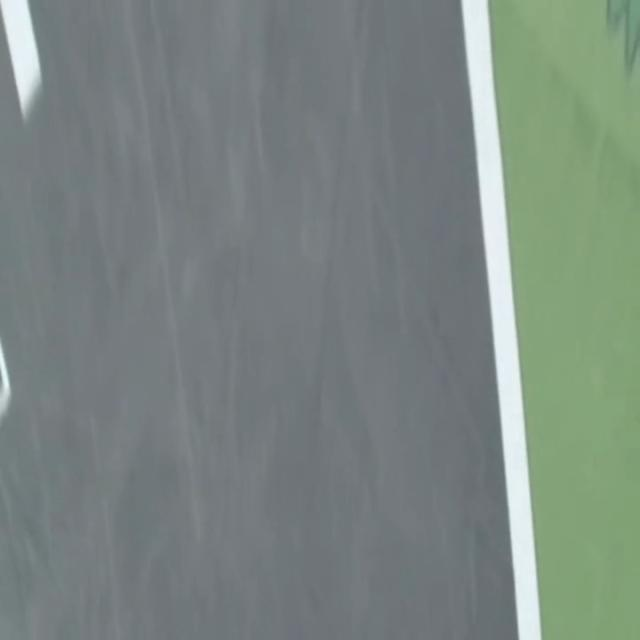right: (461, 0, 541, 639)
